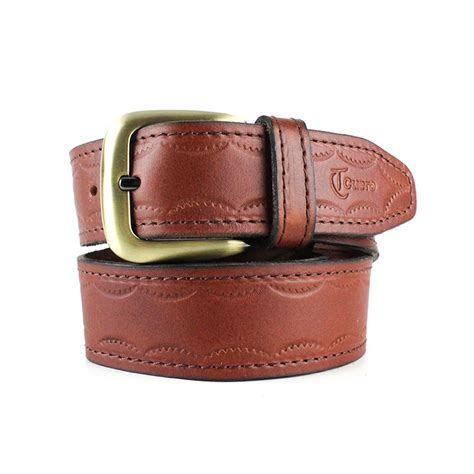cuero: (69, 119, 419, 381)
